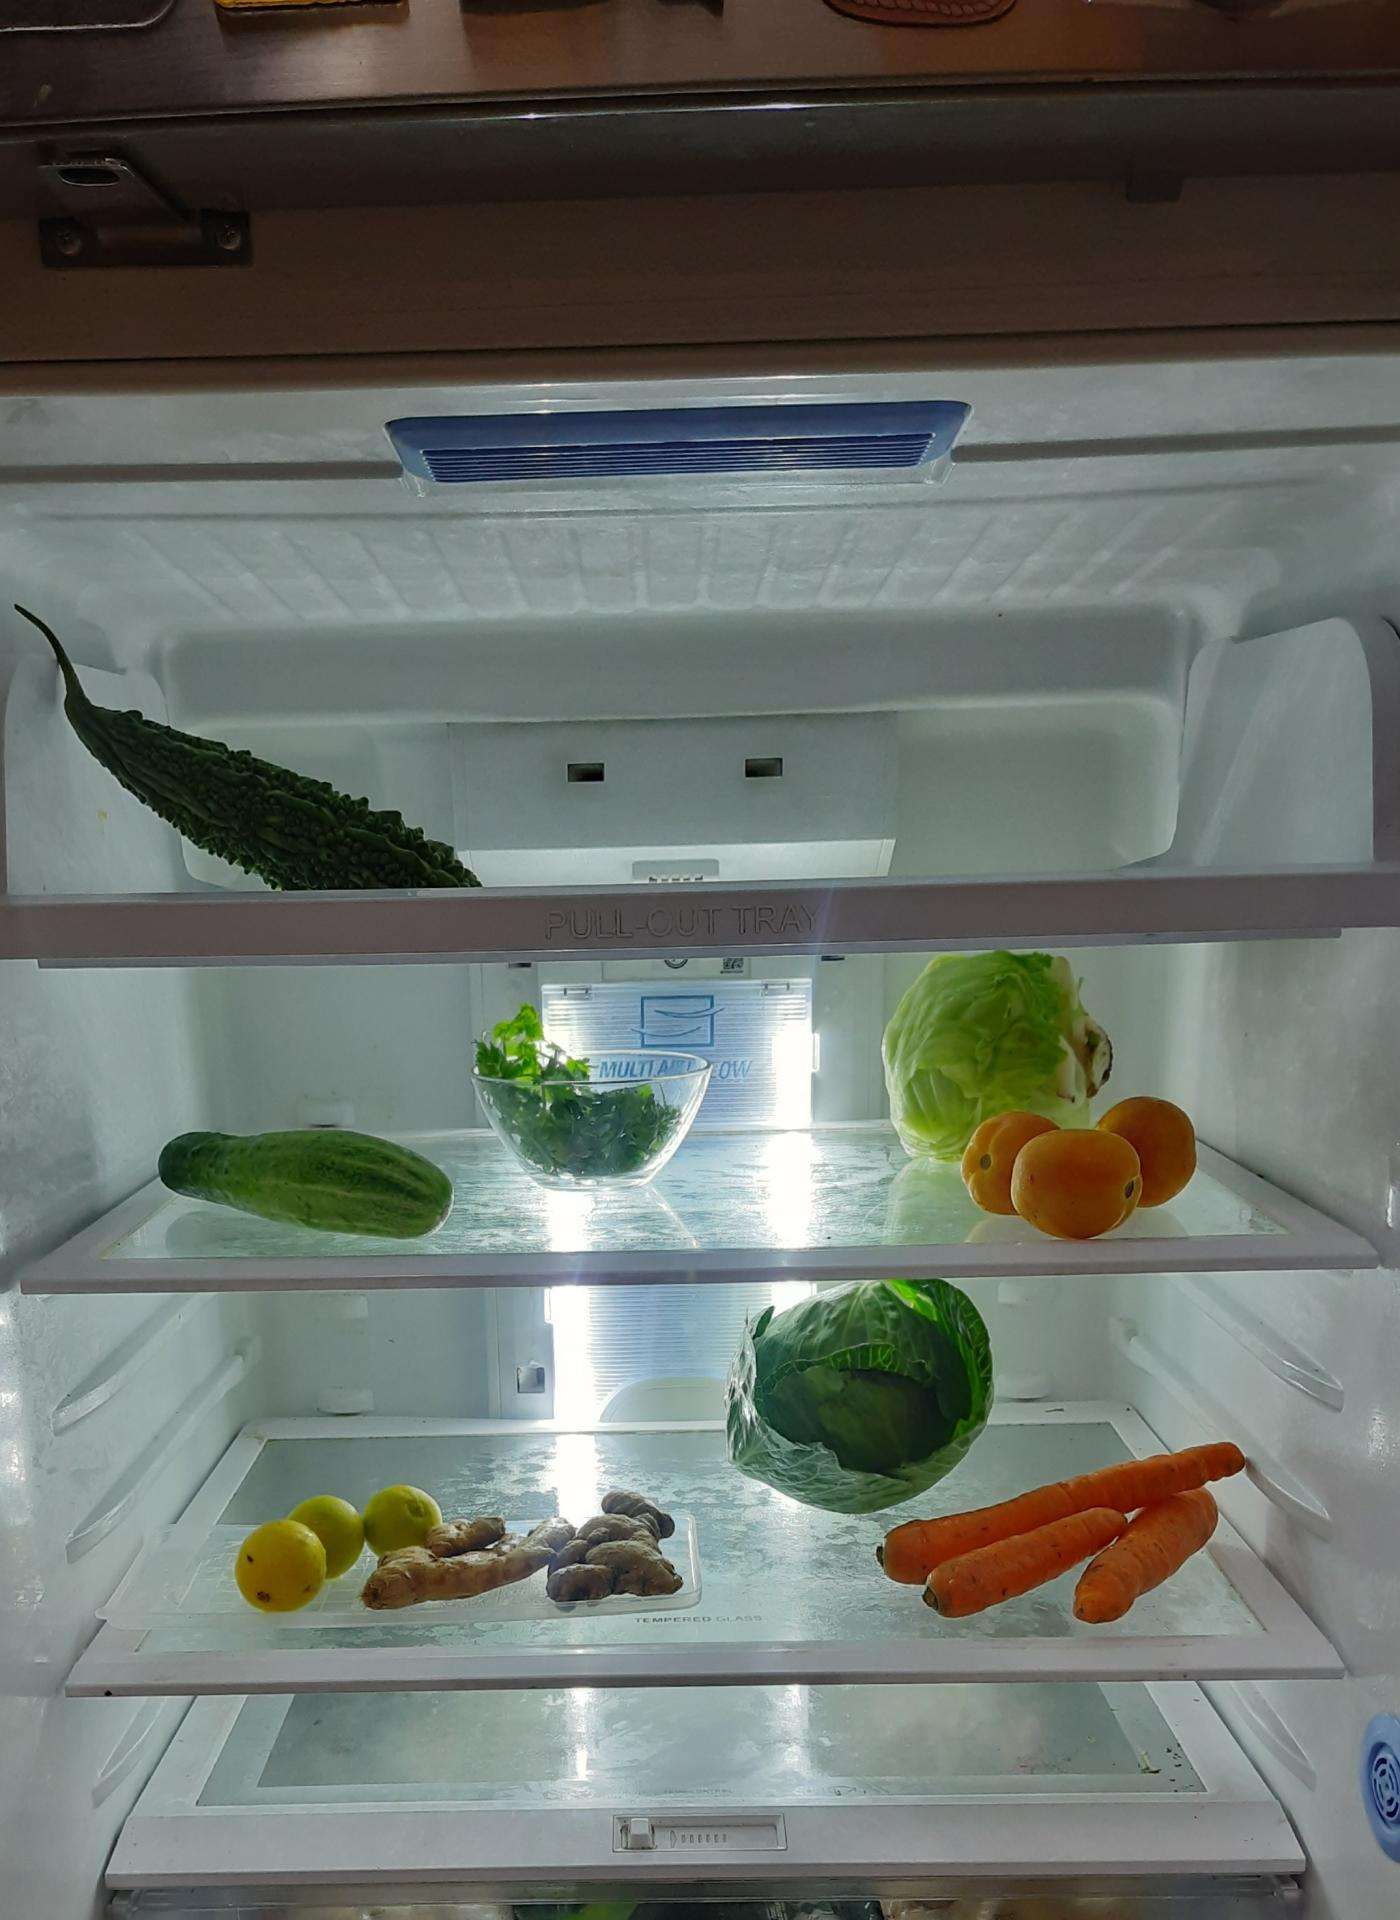bitter gourd: (43, 644, 504, 906)
cabbage: (728, 1288, 991, 1479)
carrots: (868, 1452, 1226, 1635)
coriander: (476, 1006, 692, 1173)
cucumber: (145, 1127, 462, 1243)
ginger: (373, 1492, 690, 1619)
lemon: (225, 1480, 444, 1616)
lettuce: (880, 957, 1106, 1160)
tomato: (947, 1103, 1193, 1243)
